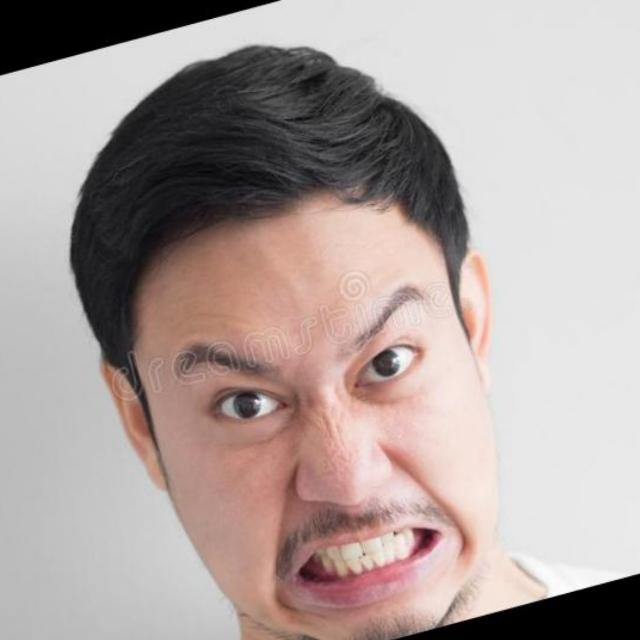Angry: (59, 92, 596, 639)
